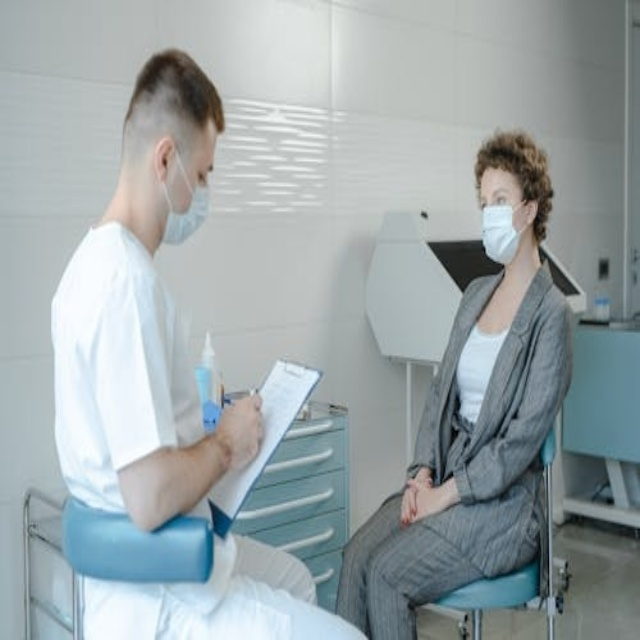Mascara: (160, 145, 210, 245), (481, 200, 530, 264)
Sin_gafas: (188, 152, 216, 192), (477, 188, 522, 209)
Sin_guantes: (216, 391, 266, 467), (397, 476, 437, 525)
